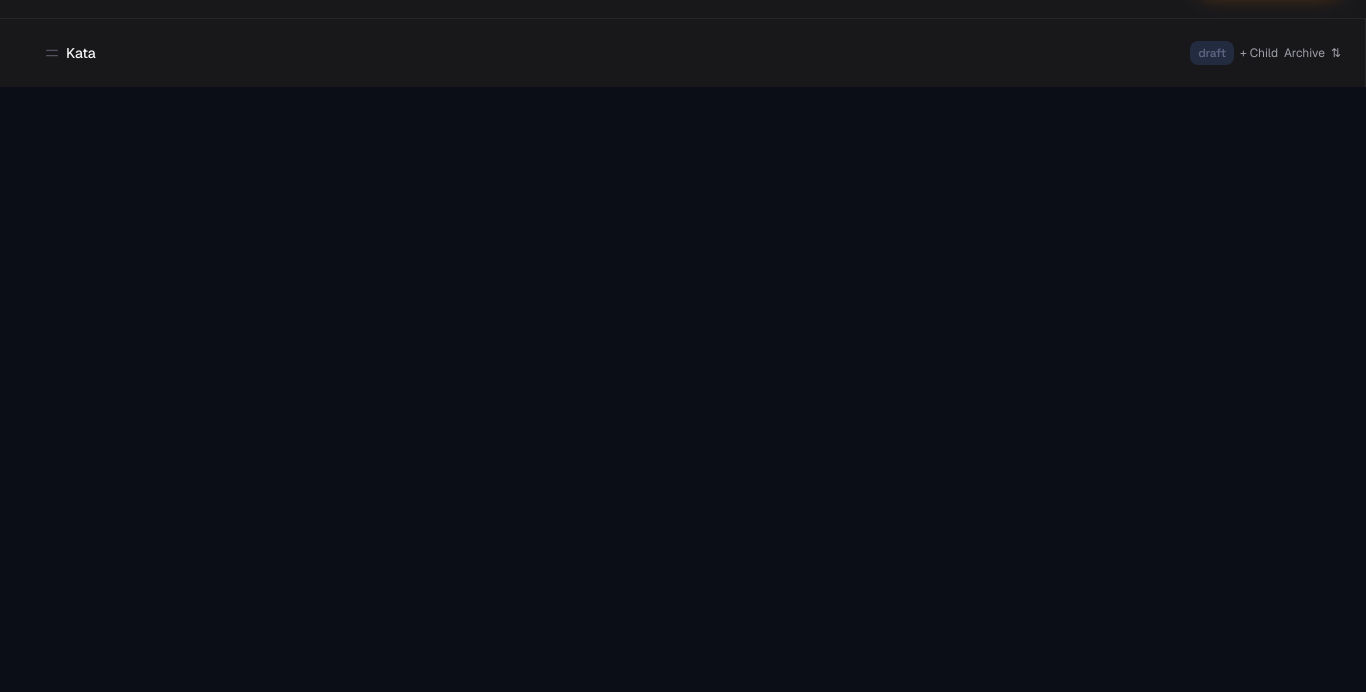
Test case: AdminTopicsPage — publish controls follow the role › a refusal on a save that did not attempt to publish shows the plain API message
Click the element with test id "topic-node-topic-1" at (682, 53), box 16,35 -> 1349,71
(page scrolled)
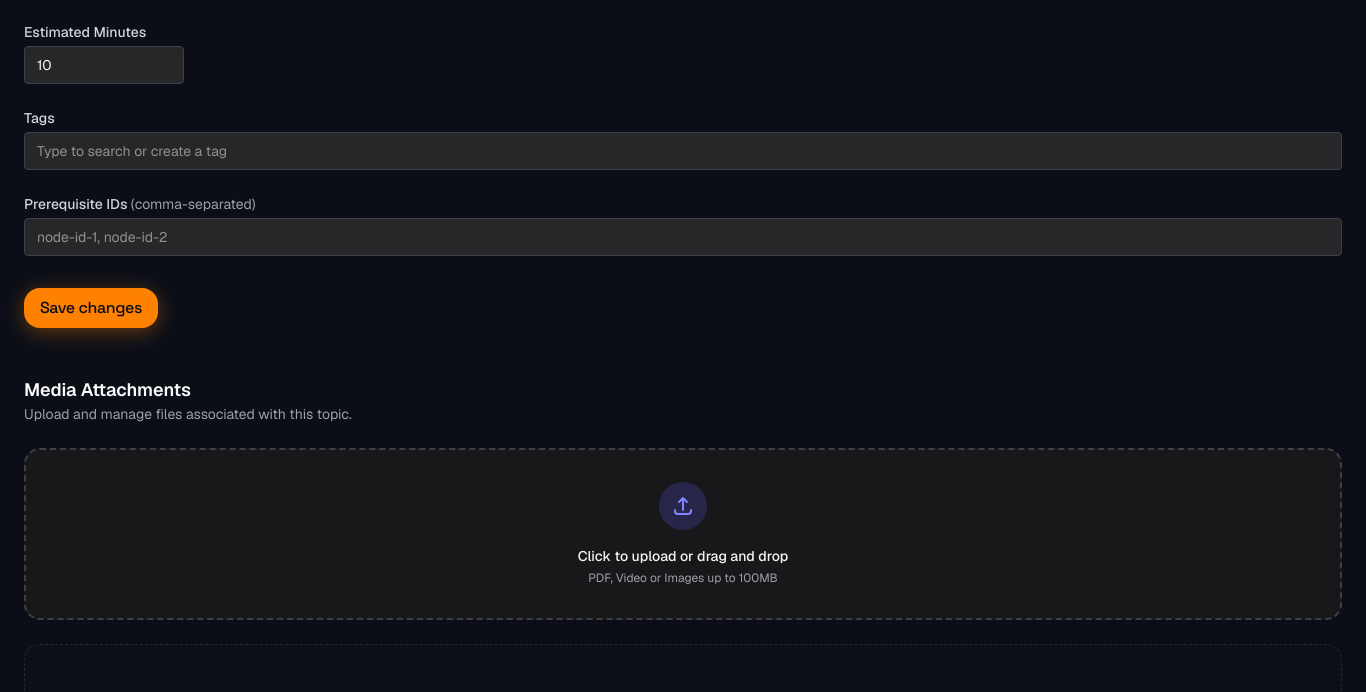
Click the button "Save changes" at (91, 308), box 24,288 -> 158,328
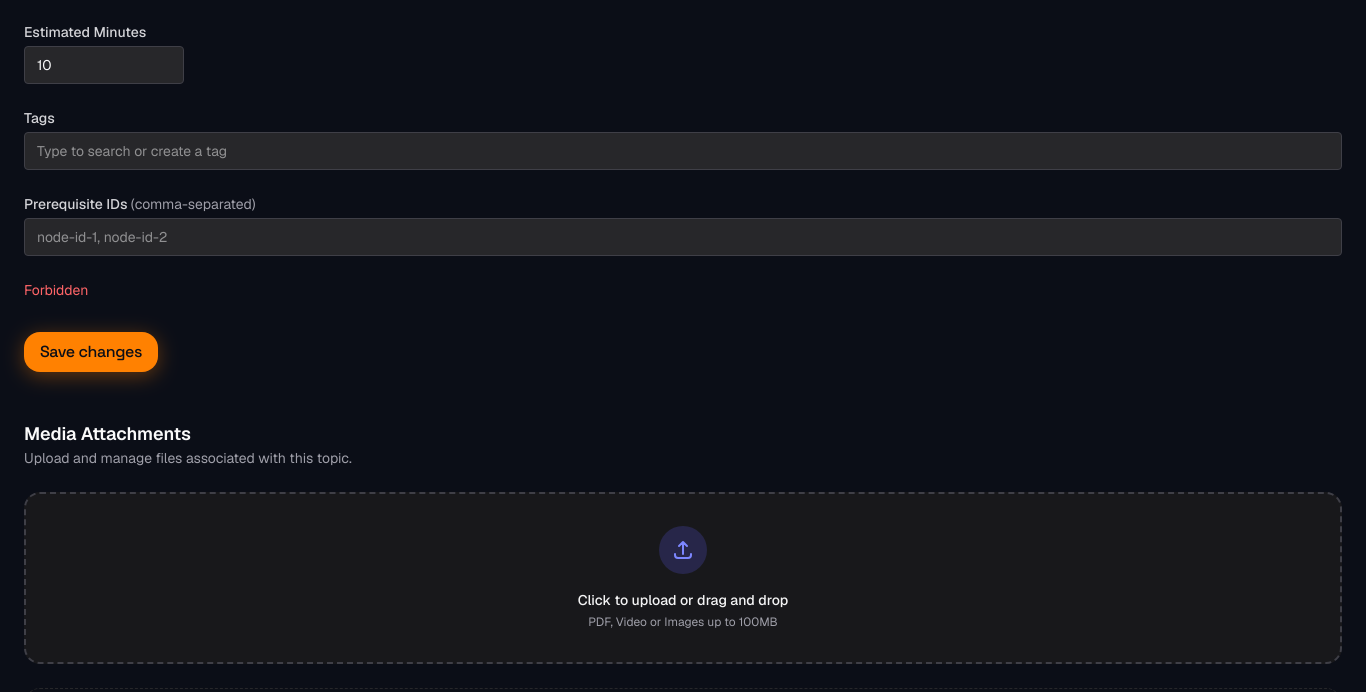
expect the message reads "Forbidden": met, box 24,281 -> 88,299
